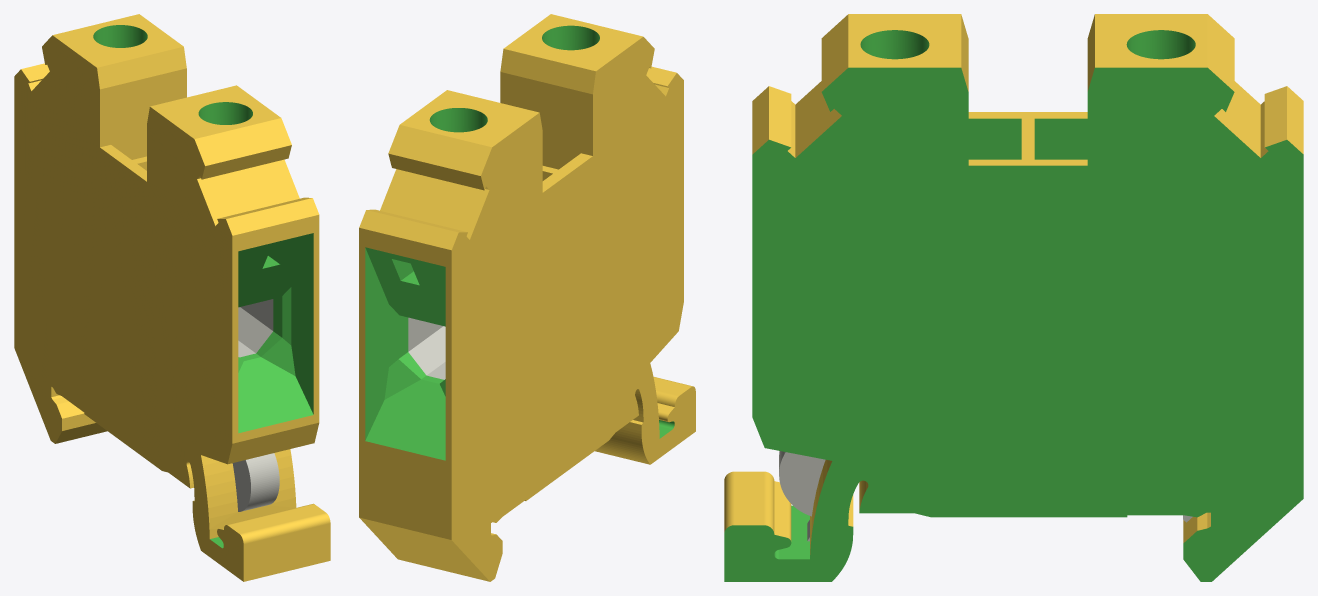
The picture shows the model from 3 angles, left to right: view 1: azimuth 30°, elevation 25°; view 2: azimuth 150°, elevation 25°; view 3: azimuth 270°, elevation 25°; orthographic projection. The views are drawn at different scales.
Visible parts, largest first — view 1: node_8542f2c6_f7a7_4671_8a9a_6fb9275b213f_mesh1, node_8542f2c6_f7a7_4671_8a9a_6fb9275b213f_mesh0, node_8542f2c6_f7a7_4671_8a9a_6fb9275b213f_mesh2; view 2: node_8542f2c6_f7a7_4671_8a9a_6fb9275b213f_mesh1, node_8542f2c6_f7a7_4671_8a9a_6fb9275b213f_mesh0, node_8542f2c6_f7a7_4671_8a9a_6fb9275b213f_mesh2; view 3: node_8542f2c6_f7a7_4671_8a9a_6fb9275b213f_mesh0, node_8542f2c6_f7a7_4671_8a9a_6fb9275b213f_mesh1, node_8542f2c6_f7a7_4671_8a9a_6fb9275b213f_mesh2.
Part boxes in pixels (box(x1,y1,x2,y2)): node_8542f2c6_f7a7_4671_8a9a_6fb9275b213f_mesh1: box(14, 14, 330, 581); node_8542f2c6_f7a7_4671_8a9a_6fb9275b213f_mesh0: box(93, 25, 313, 548); node_8542f2c6_f7a7_4671_8a9a_6fb9275b213f_mesh2: box(232, 299, 279, 511); node_8542f2c6_f7a7_4671_8a9a_6fb9275b213f_mesh1: box(359, 14, 695, 581); node_8542f2c6_f7a7_4671_8a9a_6fb9275b213f_mesh0: box(365, 25, 674, 460); node_8542f2c6_f7a7_4671_8a9a_6fb9275b213f_mesh2: box(408, 317, 445, 379); node_8542f2c6_f7a7_4671_8a9a_6fb9275b213f_mesh0: box(724, 30, 1303, 581); node_8542f2c6_f7a7_4671_8a9a_6fb9275b213f_mesh1: box(724, 14, 1303, 554); node_8542f2c6_f7a7_4671_8a9a_6fb9275b213f_mesh2: box(779, 451, 1192, 541).
Bounding box in the file's own units: 12.15 × 55.5 × 54.35.
